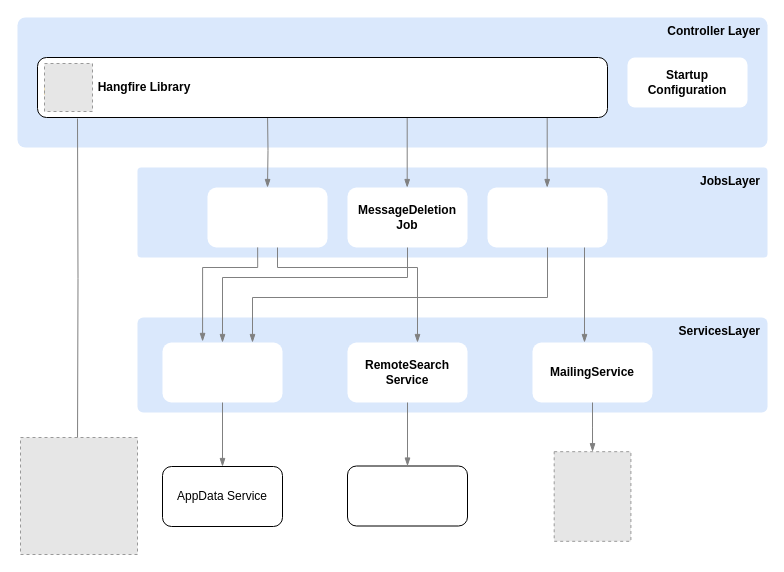
The diagram is 784 pixels wide and 572 high, and some of its shapes have lost their labels. Grey dashed boxes stand in for pictures. Each missing label, with the centre of its shape:
"MessageMailing Job" belongs at (x=547, y=217).
"RemoteAppData Service" belongs at (x=222, y=372).
"Search Service" belongs at (x=407, y=495).
"StoredQuery Execution Job" belongs at (x=267, y=217).
